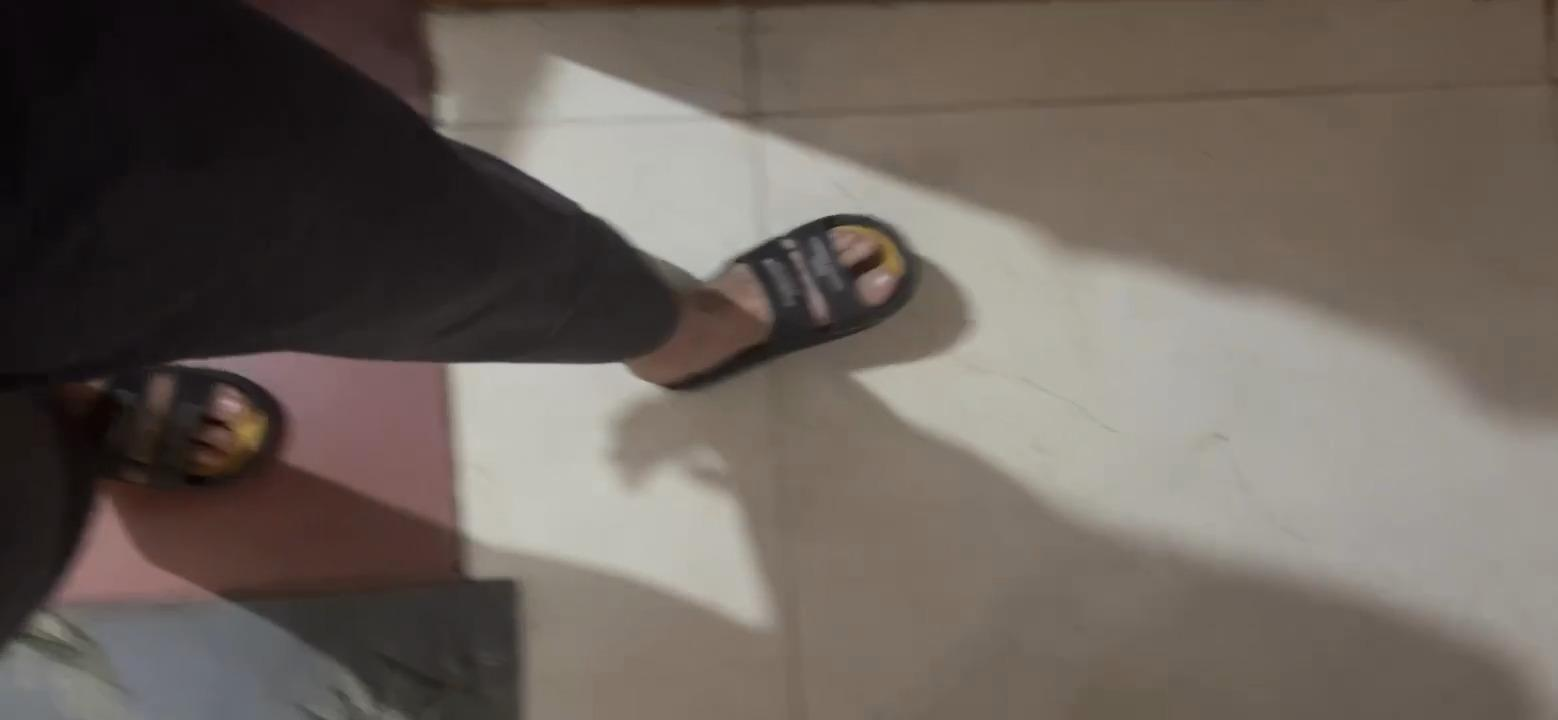no-boot: (651, 209, 939, 381)
